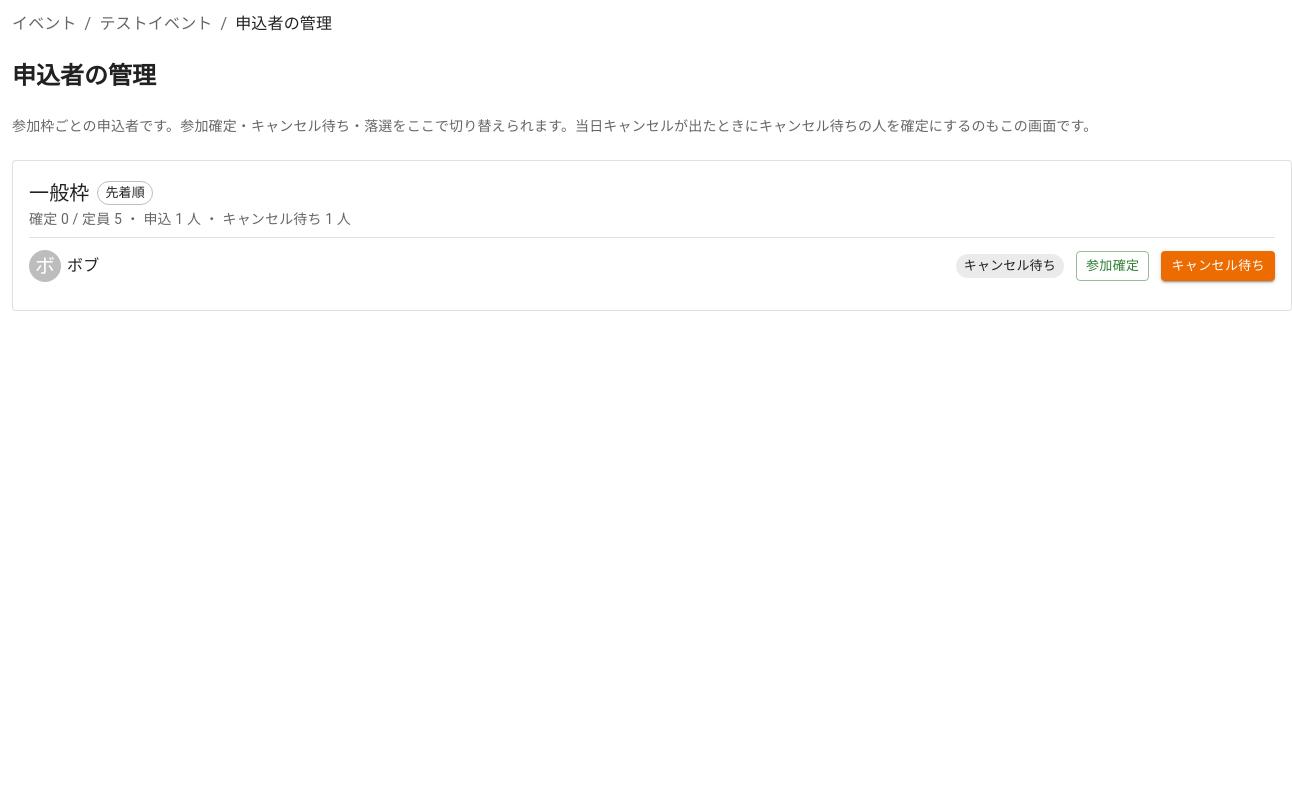
Scenario: 申込者の管理: 先着枠も扱える (#286) › 断られたら理由を画面に出す
The image size is (1292, 812).
Expected: the text "ボブ" is shown, [67,254,99,278]
Click the button "参加確定" at (1113, 266), box [1076,251,1149,282]
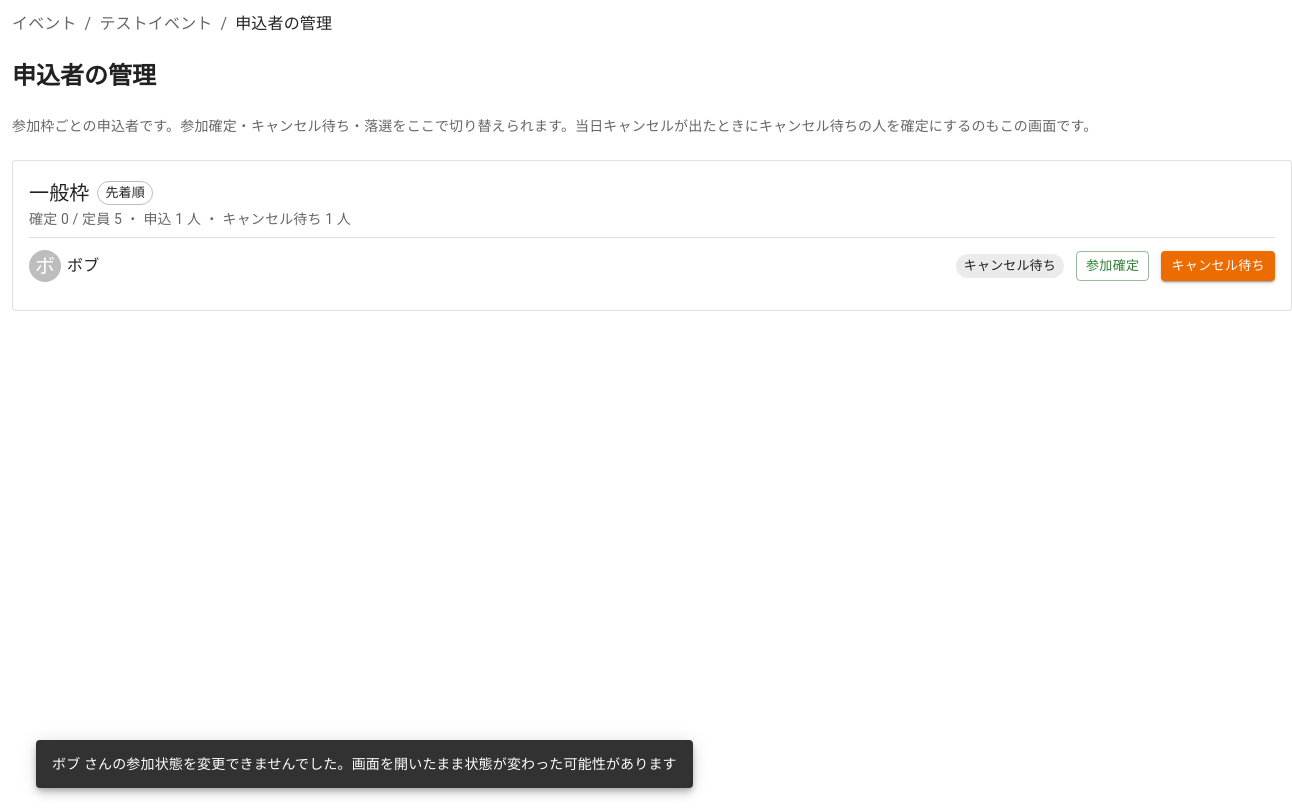
Expected: the text "ボブ さんの参加状態を変更できませんでした。画面を開いたまま状態が変わった可能性があります" is shown, [52,756,677,772]
